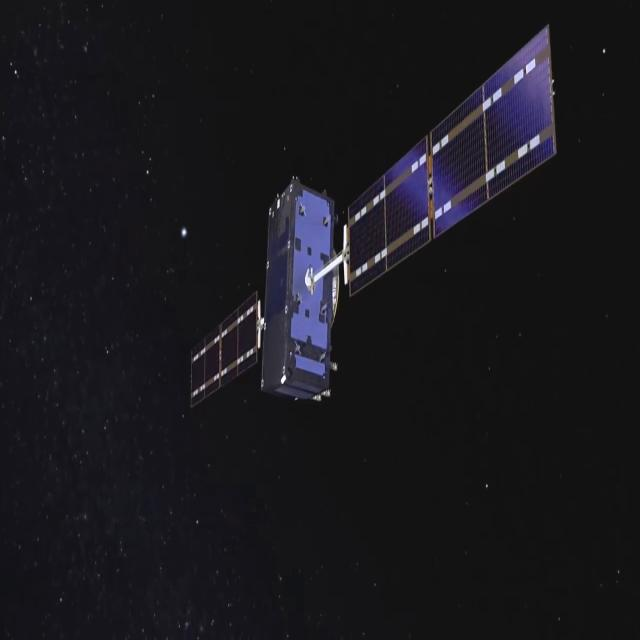satellite: (143, 32, 581, 468)
